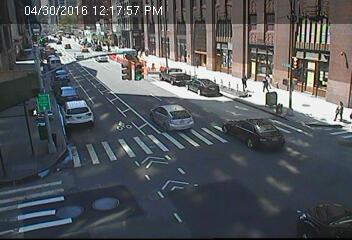neg: (160, 51, 172, 66), (179, 45, 189, 58)
pos: (330, 98, 349, 122), (237, 72, 252, 91), (260, 74, 272, 90), (263, 73, 273, 86)
